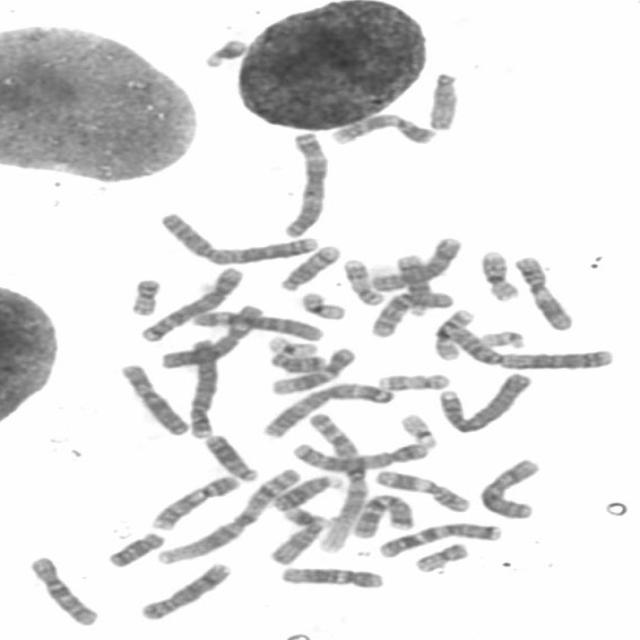A1: (152, 462, 304, 566), (302, 406, 372, 554)
A2: (153, 206, 321, 266), (440, 321, 617, 371)
A3: (256, 377, 398, 439), (277, 127, 332, 238)
B4: (433, 366, 536, 435), (181, 333, 220, 439)
B5: (134, 261, 248, 343), (286, 435, 433, 472)
C10: (21, 550, 102, 627), (365, 286, 457, 338)
C11: (509, 250, 578, 331), (369, 464, 476, 514)
C12: (264, 341, 358, 396), (274, 561, 388, 590)
C6: (154, 299, 267, 369), (185, 304, 328, 342)
C7: (372, 517, 507, 559), (347, 488, 417, 540)
C8: (134, 557, 235, 622), (364, 231, 465, 292)
C9: (145, 469, 243, 532), (324, 108, 440, 146)
D13: (198, 428, 262, 483), (269, 470, 347, 513)
D14: (275, 240, 344, 292), (390, 249, 432, 317)
D15: (263, 516, 328, 566), (422, 66, 462, 131)
E16: (428, 303, 478, 362), (475, 245, 523, 302)
E17: (338, 254, 388, 306), (372, 367, 453, 392)
E18: (100, 526, 168, 569), (265, 349, 329, 373)
F19: (295, 286, 350, 322), (262, 330, 322, 357)
F20: (409, 537, 473, 573), (123, 272, 164, 317)
G21: (264, 486, 318, 524), (197, 32, 250, 68)
G22: (395, 407, 441, 448), (474, 324, 529, 350)
X: (114, 358, 194, 438), (473, 454, 545, 520)
